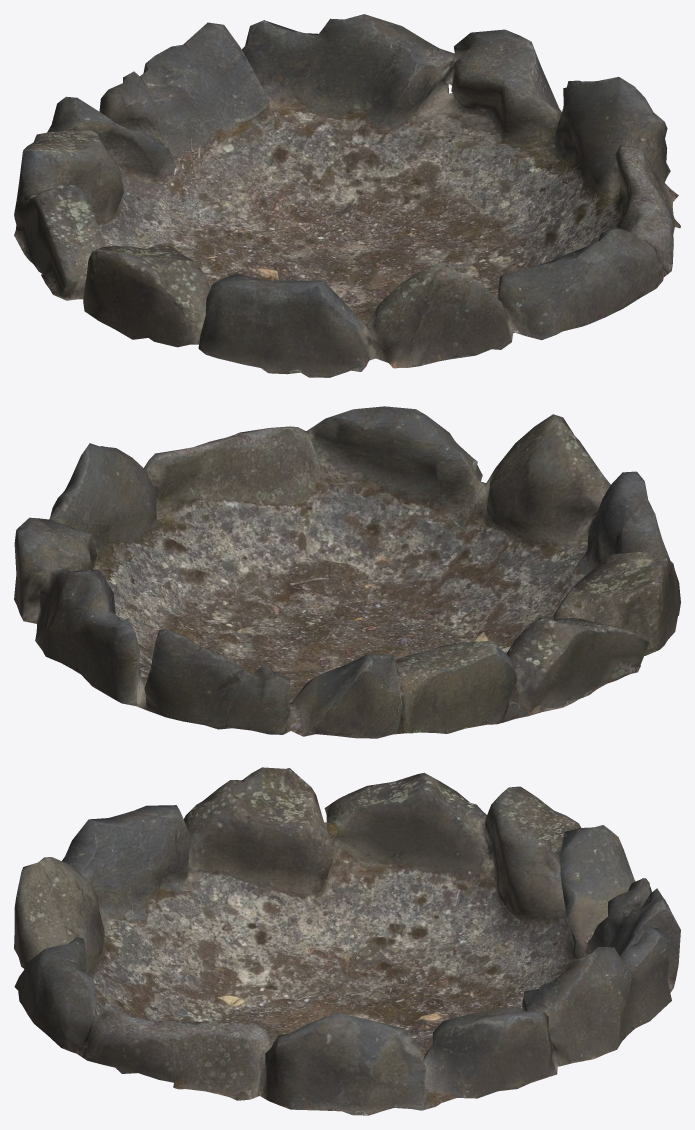
File: test-stone-fire-pit.127c6925d8.ar.glb
3 views of the same model, one above another, from view 1: azimuth 30°, elevation 25°; view 2: azimuth 150°, elevation 25°; view 3: azimuth 270°, elevation 25° (orthographic).
Parts seen in each view (by area): view 1: stone_fire_pit; view 2: stone_fire_pit; view 3: stone_fire_pit.
Part boxes in pixels (x1,y1,x2,y2): stone_fire_pit: [14, 14, 680, 377]; stone_fire_pit: [14, 406, 680, 738]; stone_fire_pit: [14, 767, 680, 1115].
Bounding box in the file's own units: 1.45 × 0.3883 × 1.43.
1 material, 1 textured.
